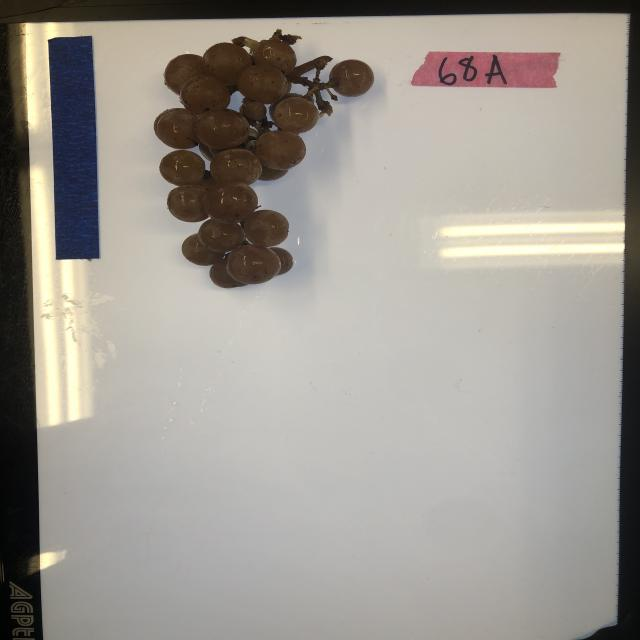grape_cluster: (154, 28, 376, 289)
index: (410, 50, 564, 88)
measure_label: (45, 34, 101, 261)
